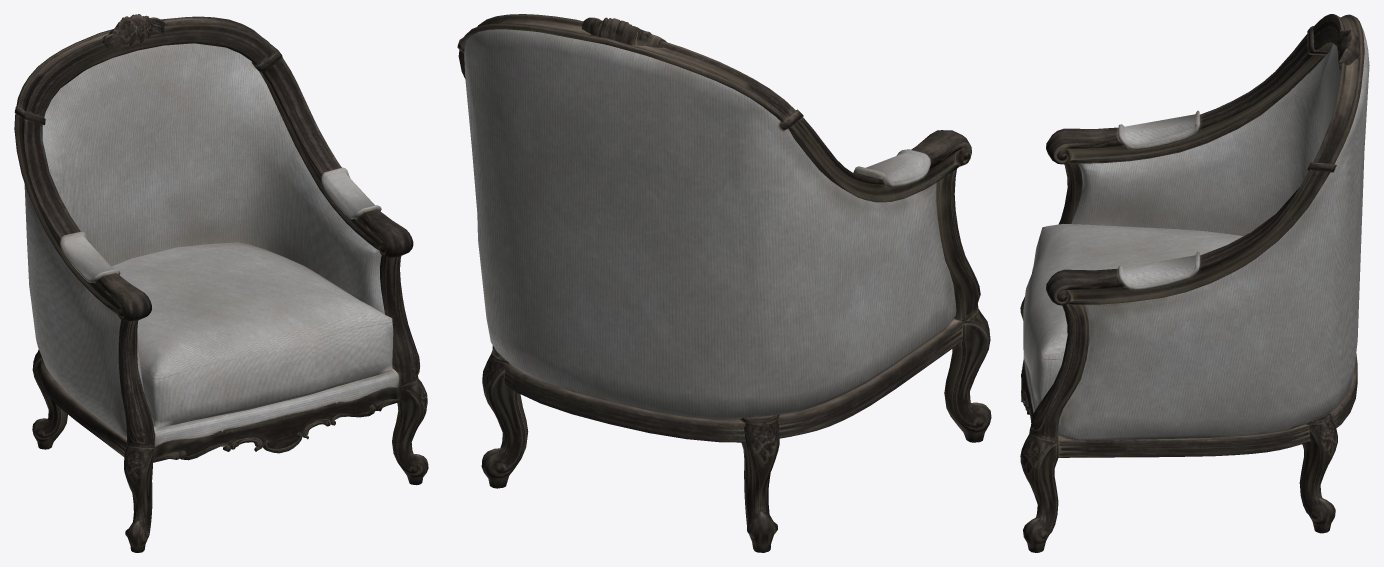
The model's file is armchair.glb.
3 renders of one model, left to right at view 1: azimuth 30°, elevation 25°; view 2: azimuth 150°, elevation 25°; view 3: azimuth 270°, elevation 25°, orthographic. The views are drawn at different scales.
Visible parts, largest first — view 1: ArmChair_01; view 2: ArmChair_01; view 3: ArmChair_01.
Boxes of the visible parts, bbox=[...] form: ArmChair_01: bbox=[14, 14, 428, 552]; ArmChair_01: bbox=[457, 14, 991, 552]; ArmChair_01: bbox=[1020, 14, 1369, 552].
Size of the model in its own units: 0.8484 by 1.07 by 0.7658.
Materials: 1 (1 with a texture image).
